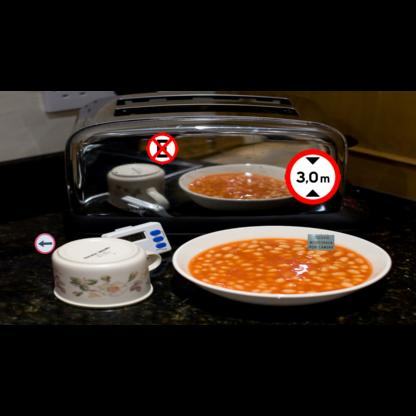I-E: (308, 234, 334, 250)
R-15: (285, 149, 341, 204)
R-24a: (35, 233, 55, 254)
R-6c: (146, 133, 178, 165)
